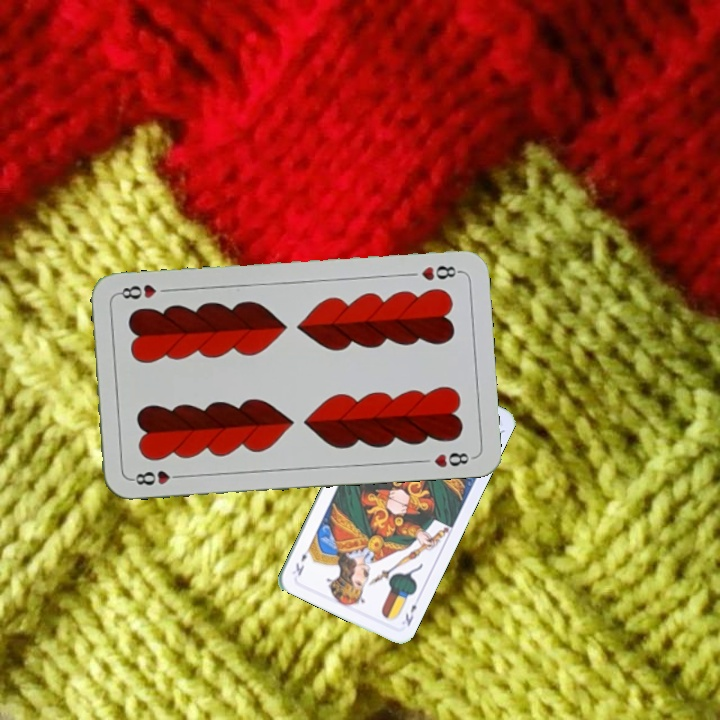EK: (401, 593, 423, 629)
H8: (127, 466, 186, 488), (417, 261, 463, 284)
